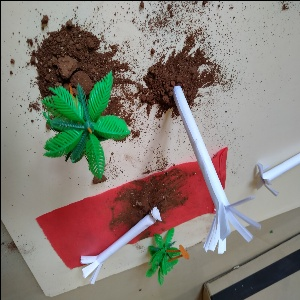plant: (37, 73, 122, 182), (144, 226, 190, 290)
weed: (162, 79, 258, 264), (81, 199, 154, 280), (245, 143, 300, 206)
